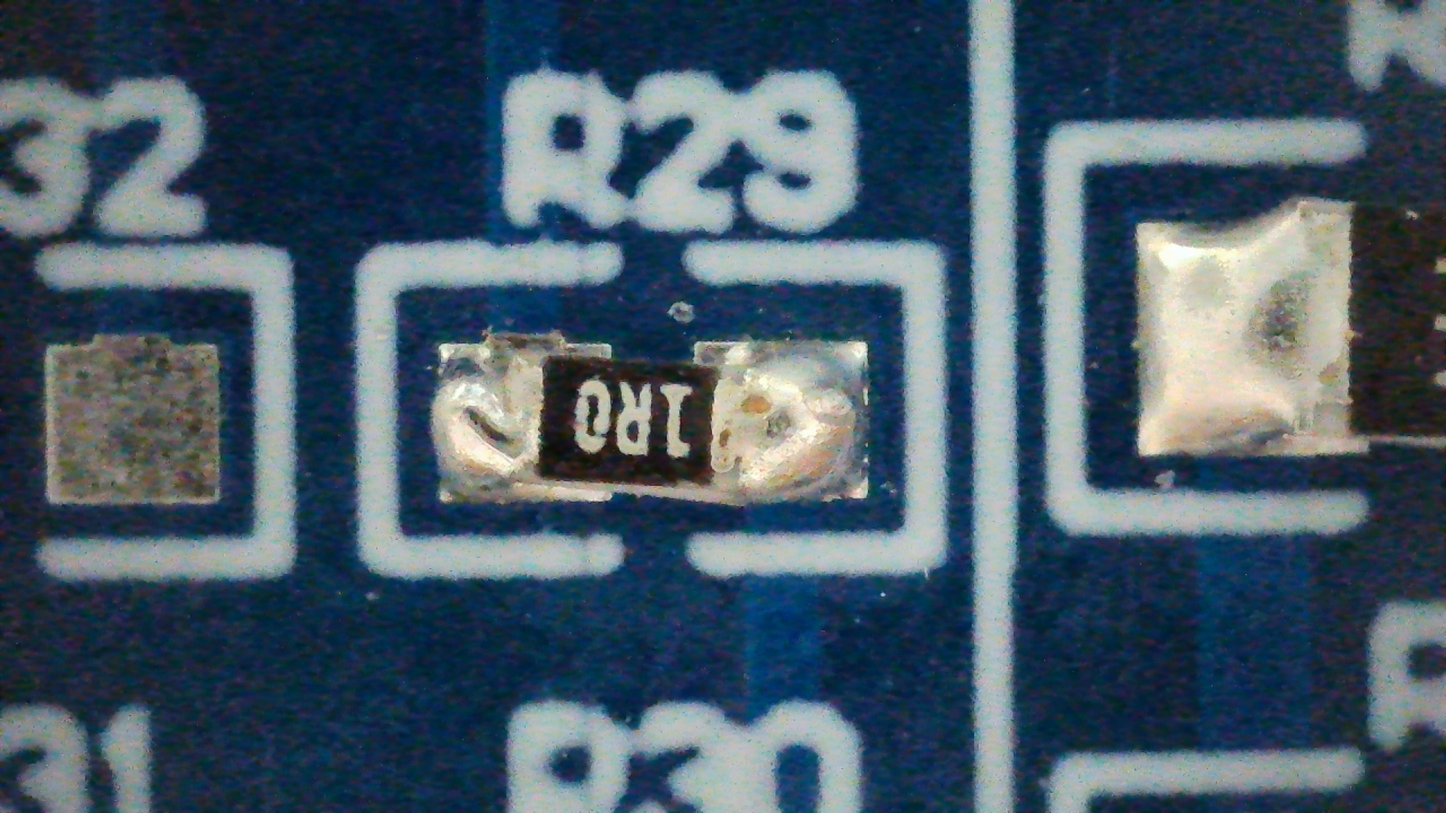NG: (432, 331, 869, 505)
